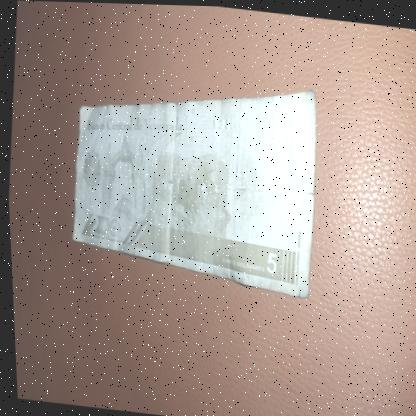five-back-vef: (61, 60, 326, 297)
